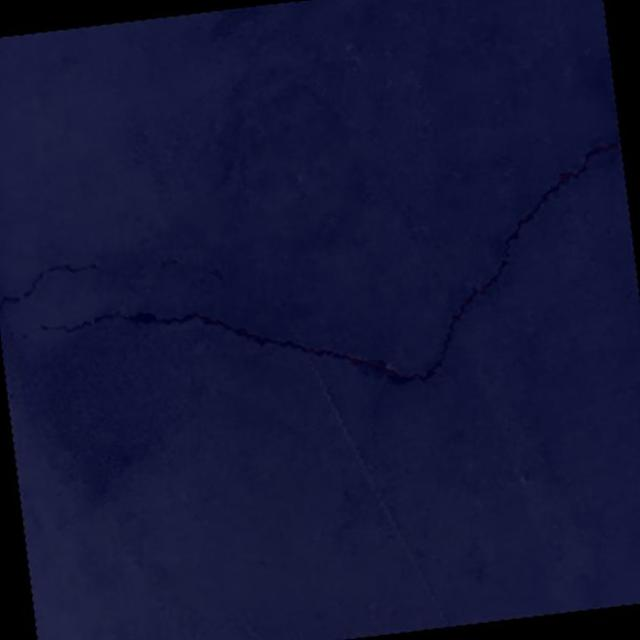crack: (2, 138, 640, 433), (0, 260, 102, 311)
